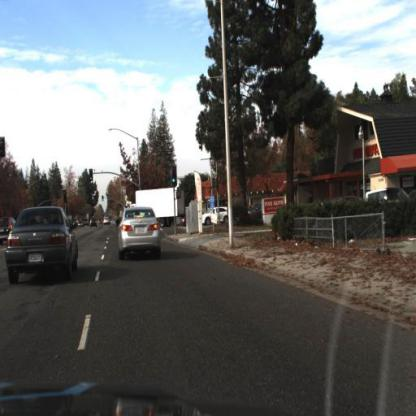car: (2, 199, 80, 300), (114, 203, 167, 269), (117, 206, 165, 262), (205, 200, 241, 227), (87, 213, 101, 233)
trafficLight-Green: (168, 170, 179, 194), (86, 163, 94, 187)
truck: (119, 171, 195, 222)
